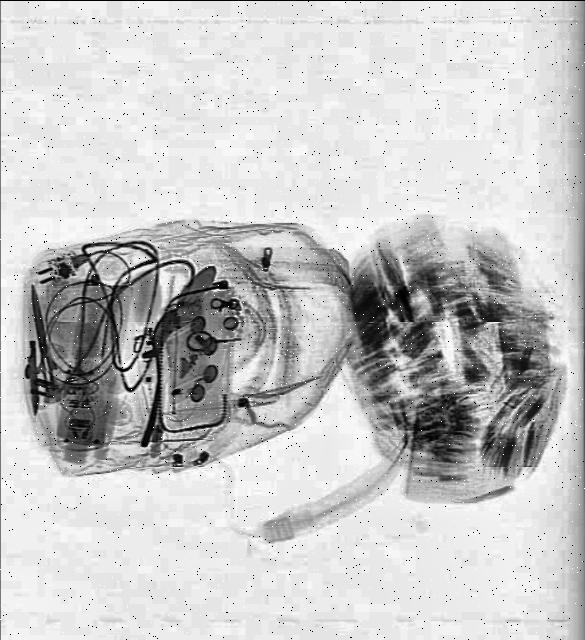Knife: (29, 281, 57, 387), (23, 340, 45, 414)
